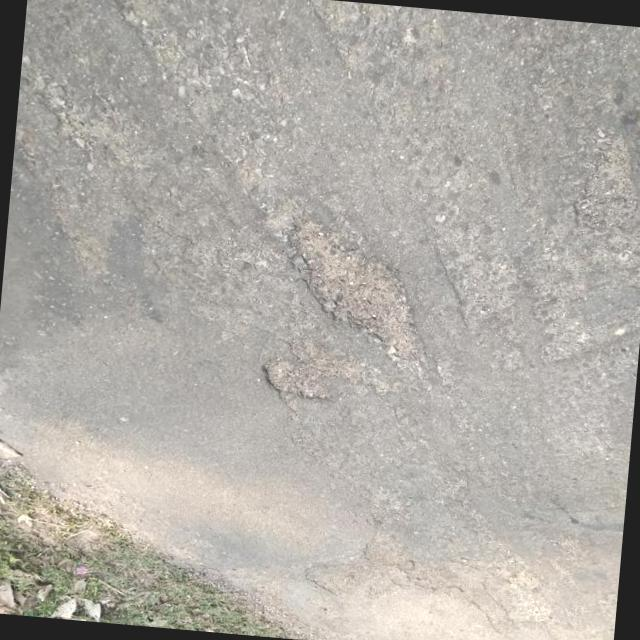pothole: (281, 220, 438, 368), (568, 132, 640, 233), (255, 352, 338, 407)
